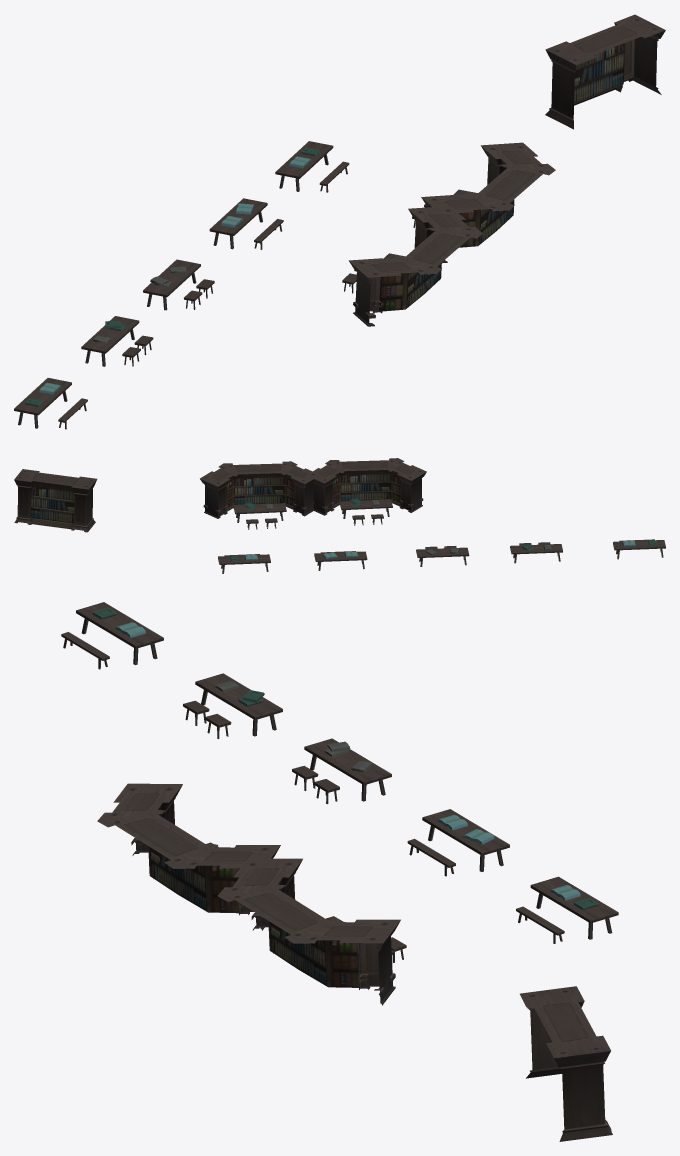
Rendered from wujian14.fbx.
The picture shows the model from 3 angles, top to bottom: view 1: azimuth 30°, elevation 25°; view 2: azimuth 150°, elevation 25°; view 3: azimuth 270°, elevation 25°; orthographic projection. The views are drawn at different scales.
Parts seen in each view (by area): view 1: wujian14; view 2: wujian14; view 3: wujian14.
Boxes of the visible parts, <box> form: wujian14: <box>14,14,665,429</box>; wujian14: <box>14,458,665,573</box>; wujian14: <box>61,602,618,1141</box>.
Size of the model in its own units: 5614 by 441 by 2552.
Materials: 1 (1 with a texture image).
